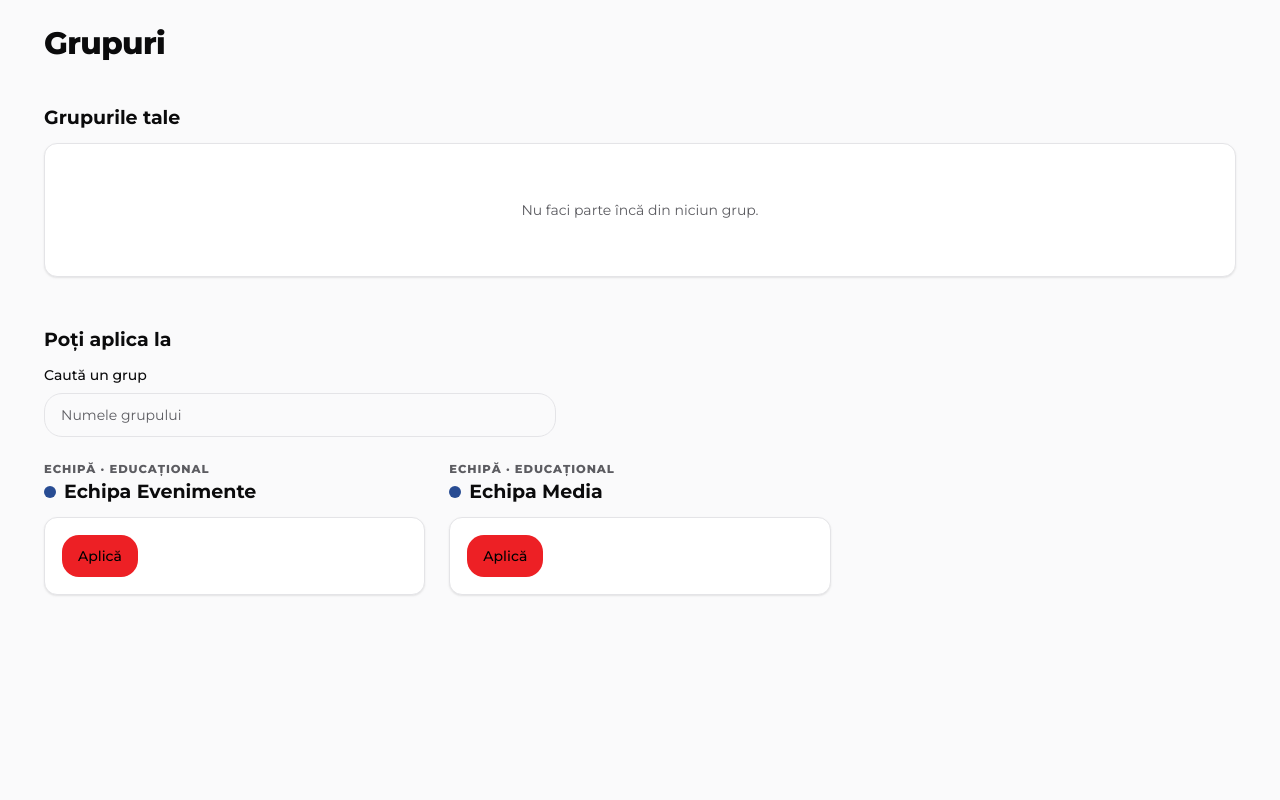
it: lists only eligible active Groups and searches by name, with their first ancestor
Expected: the text "Echipă · Educațional" is shown 2 times, [44,462,209,476]; [449,462,615,476]
Type "inexistent" into the search field at (300, 415), box [44,393,556,437]
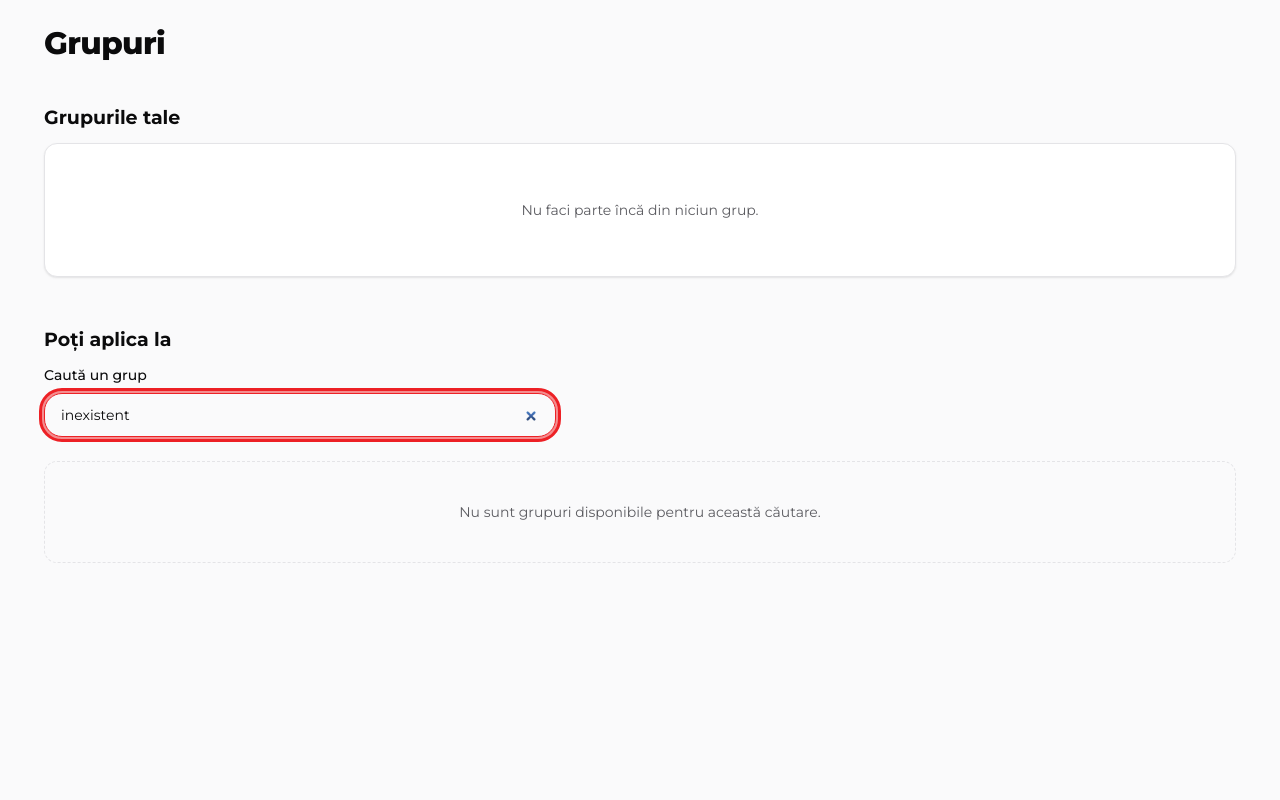
Now the message shows "Nu sunt grupuri", box [459,503,821,521]
